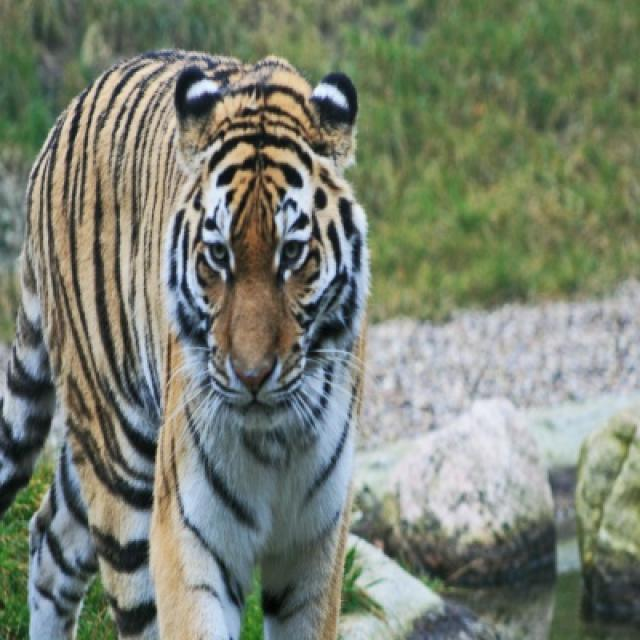Tiger: (9, 49, 370, 638)
